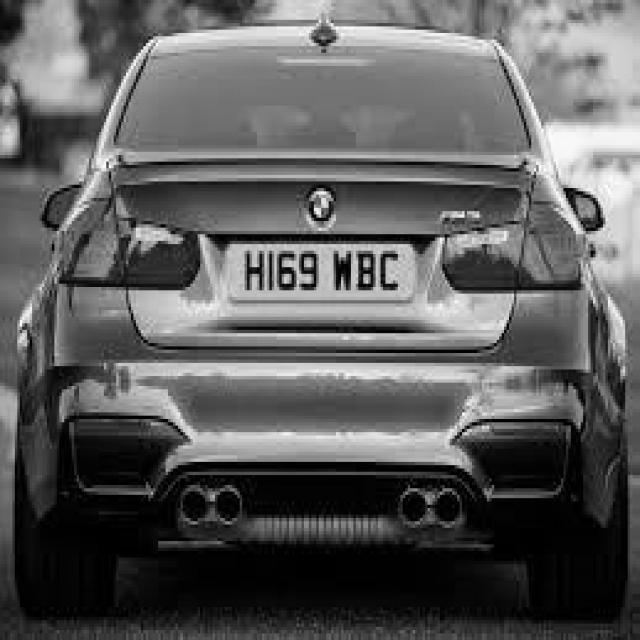car: (12, 20, 635, 633)
license-plate: (227, 238, 418, 300)
